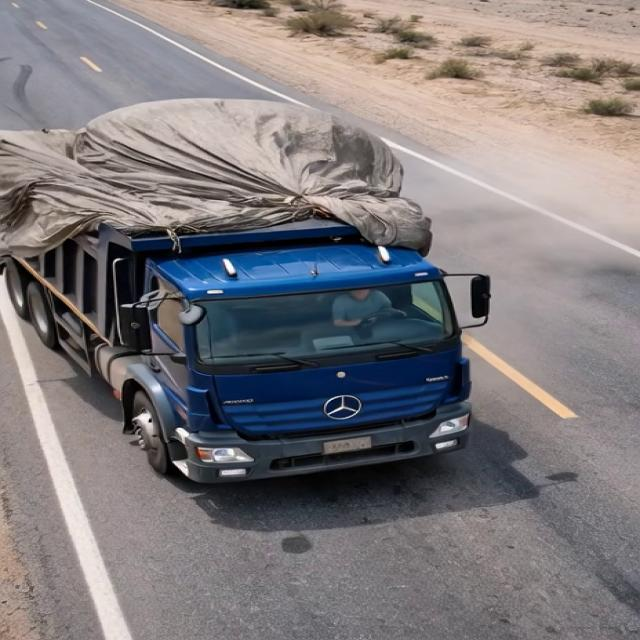trailer: (8, 127, 434, 257)
truck: (4, 100, 542, 492)
